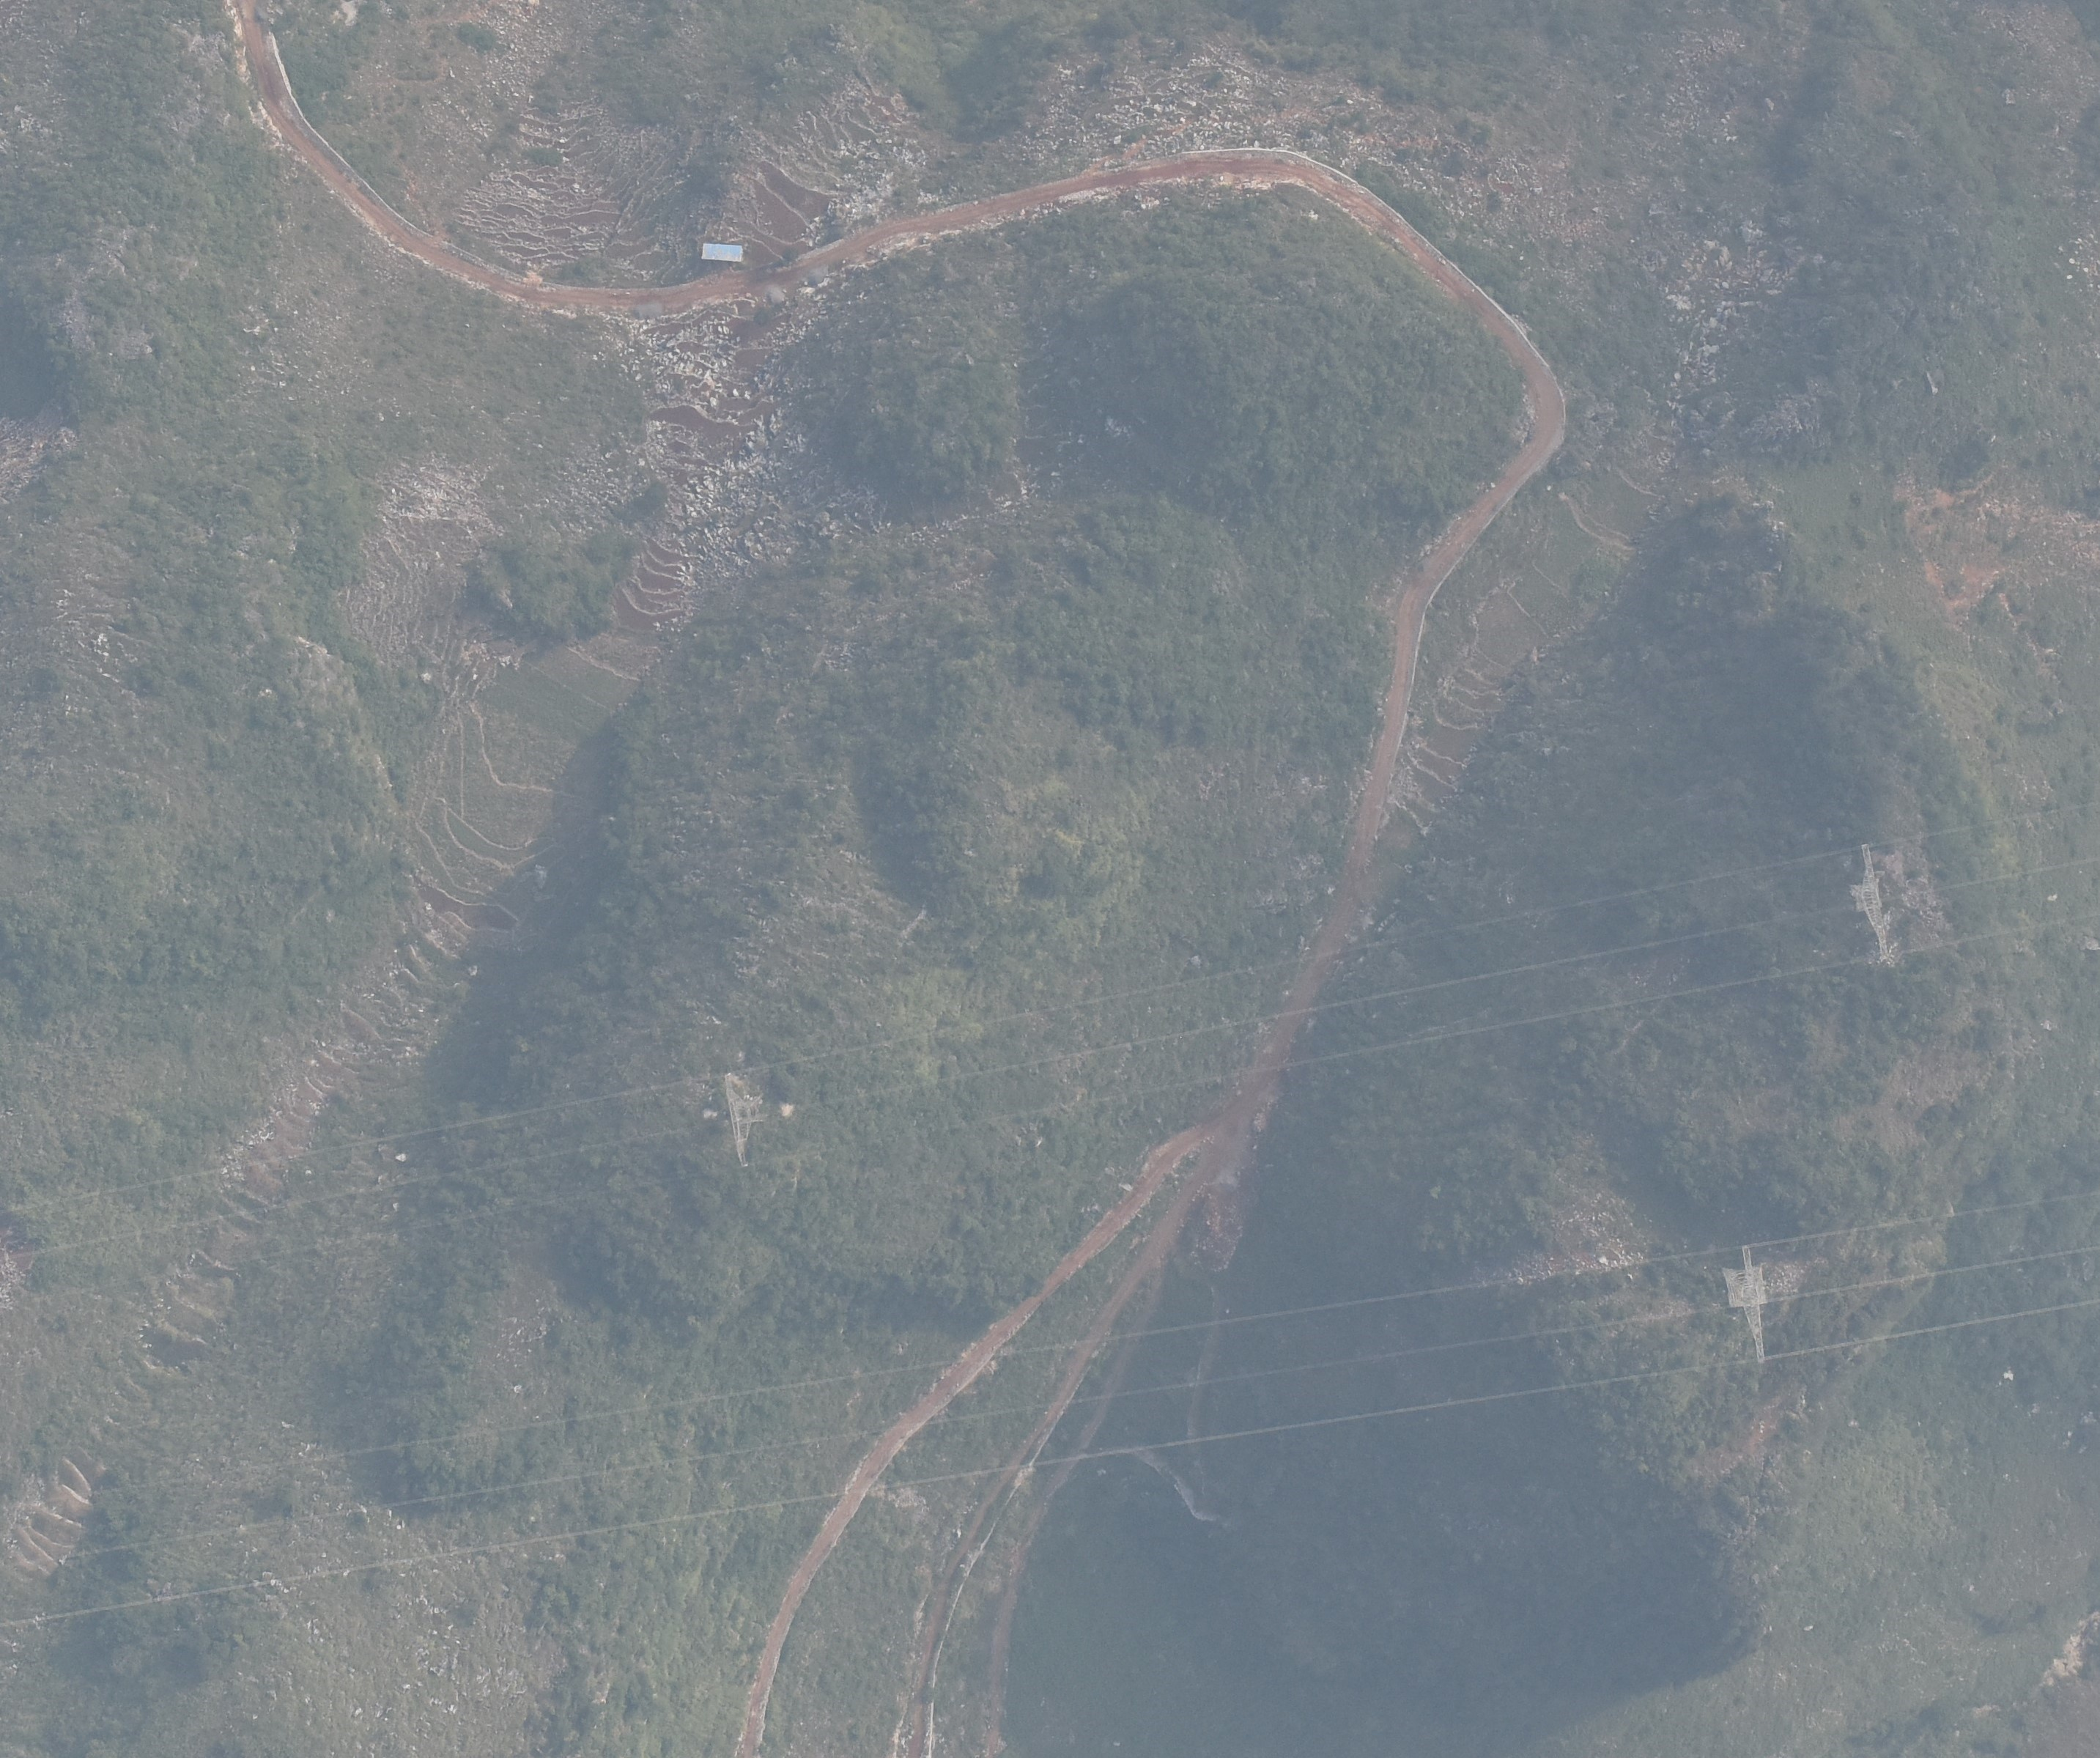cable-tower: (1837, 830, 1931, 991), (1715, 1233, 1803, 1364), (694, 1060, 785, 1167)
prefabricated-house: (694, 234, 750, 267)
